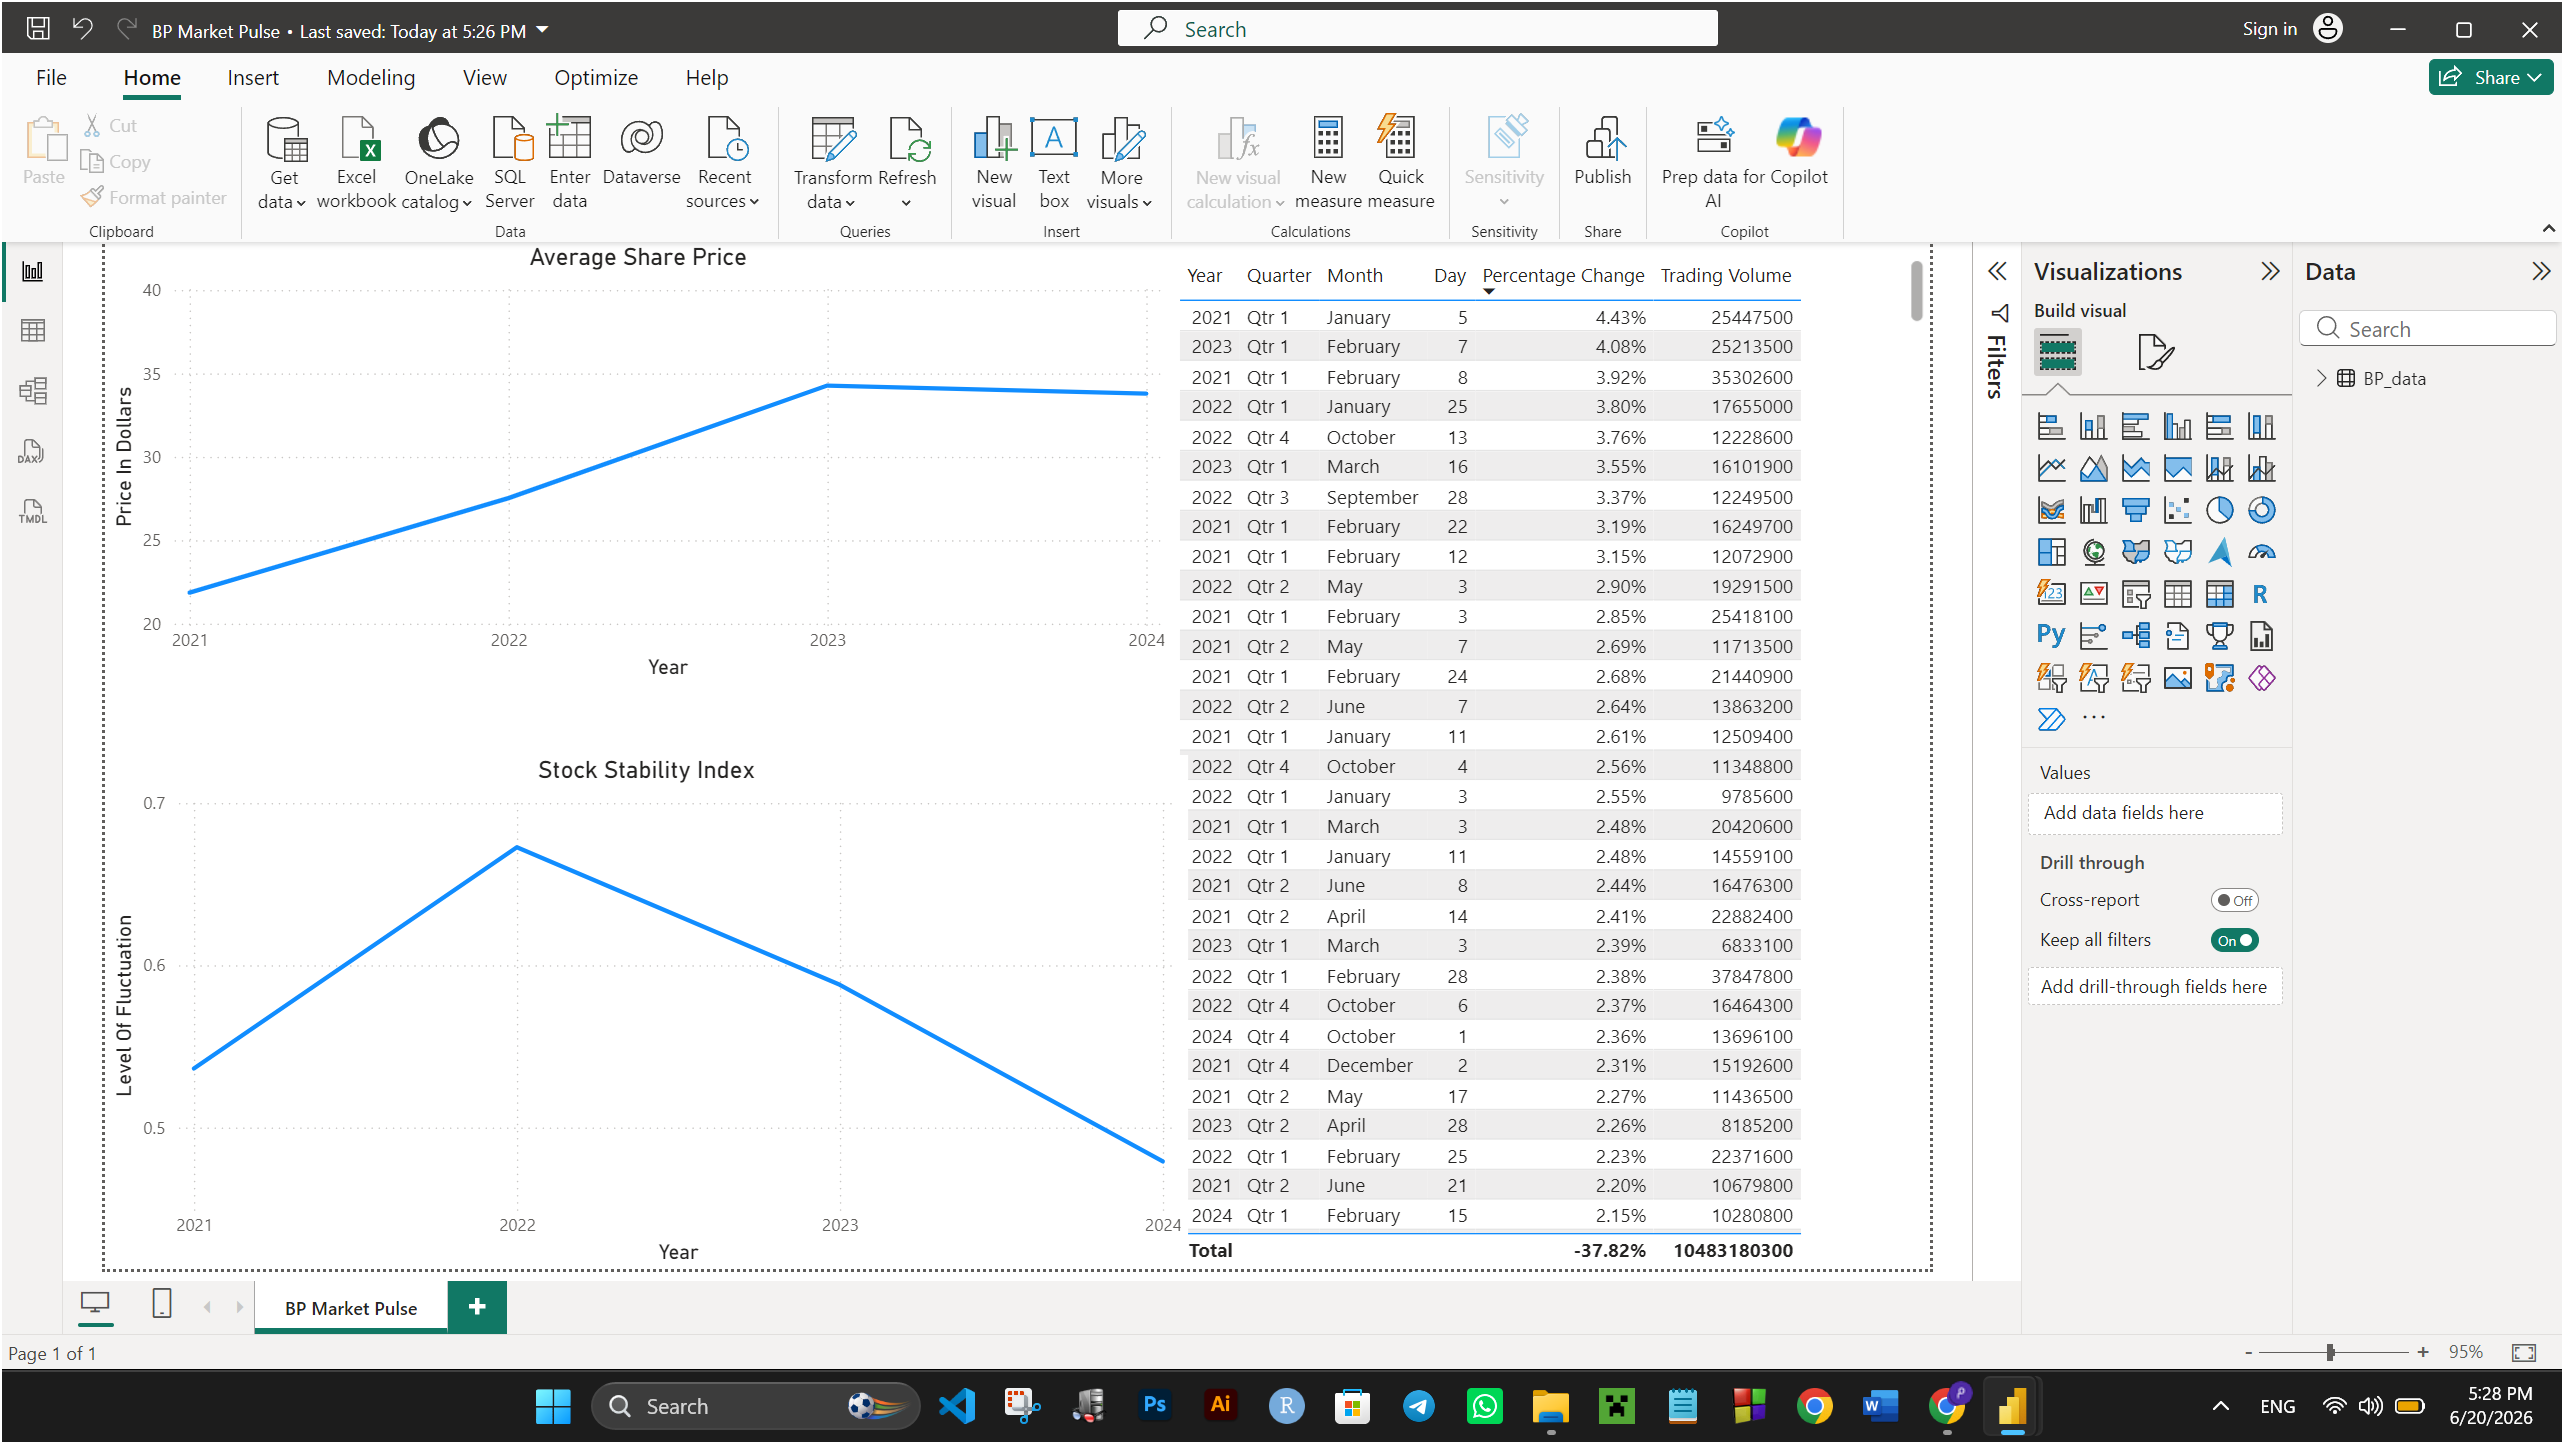

The page's visual inventory and layout, read from the dashboard file:
{"tool":"powerbi","page":{"name":"BP Market Pulse","canvas":[1280,720],"ordinal":0},"visuals":[{"type":"lineChart","title":"Average Share Price","fields":{"Category":["BP_data.Date.Variation.Date Hierarchy.Year","BP_data.Date.Variation.Date Hierarchy.Quarter","BP_data.Date.Variation.Date Hierarchy.Month","BP_data.Date.Variation.Date Hierarchy.Day"],"Y":["Avg(BP_data.Adj Close)"]},"box":[0,0,747.7,310.2],"z":0},{"type":"tableEx","fields":{"Values":["BP_data.Date.Variation.Date Hierarchy.Year","BP_data.Date.Variation.Date Hierarchy.Quarter","BP_data.Date.Variation.Date Hierarchy.Month","BP_data.Date.Variation.Date Hierarchy.Day","Sum(BP_data.Daily Change)","Sum(BP_data.Volume)"]},"box":[747.7,7.4,532.1,713],"z":1000},{"type":"lineChart","title":"Stock Stability Index","fields":{"Category":["BP_data.Date.Variation.Date Hierarchy.Year","BP_data.Date.Variation.Date Hierarchy.Quarter","BP_data.Date.Variation.Date Hierarchy.Month","BP_data.Date.Variation.Date Hierarchy.Day"],"Y":["Avg(BP_data.Volatility Range)"]},"box":[0,359.7,759.3,360.7],"z":2000}]}

Visuals, with their boxes on the page's 1280x720 design canvas (x1, y1, x2, y2). These are canvas units, not pixel positions in the 2564x1444 screenshot, which may show the page scaled, cropped or inside an application window:
"Average Share Price" lineChart: box(0, 0, 748, 310)
tableEx - BP_data.Date.Variation.Date Hierarchy.Year x BP_data.Date.Variation.Date Hierarchy.Quarter: box(748, 7, 1280, 720)
"Stock Stability Index" lineChart: box(0, 360, 759, 720)
